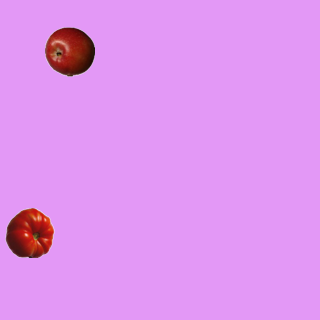Apple Braeburn: (44, 26, 94, 76)
Tomato 3: (4, 207, 54, 257)
